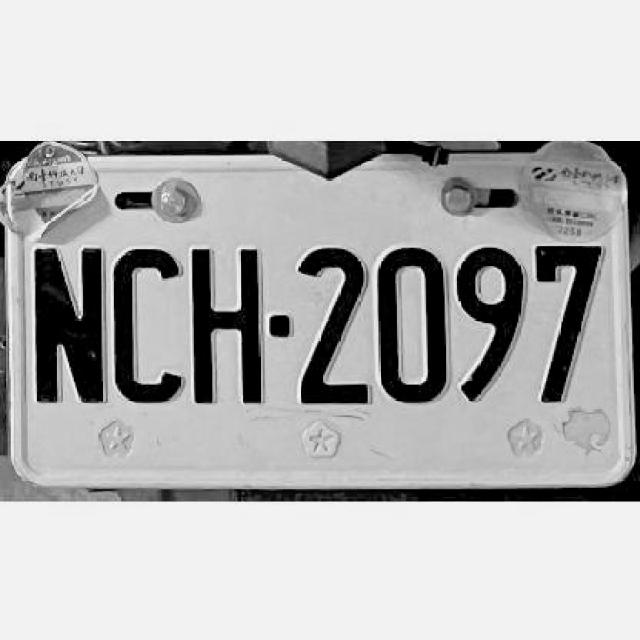-: (266, 311, 291, 338)
0: (375, 240, 448, 405)
2: (294, 235, 369, 416)
7: (528, 237, 604, 406)
9: (449, 238, 528, 408)
C: (109, 242, 185, 404)
H: (192, 238, 265, 410)
N: (29, 242, 108, 409)
